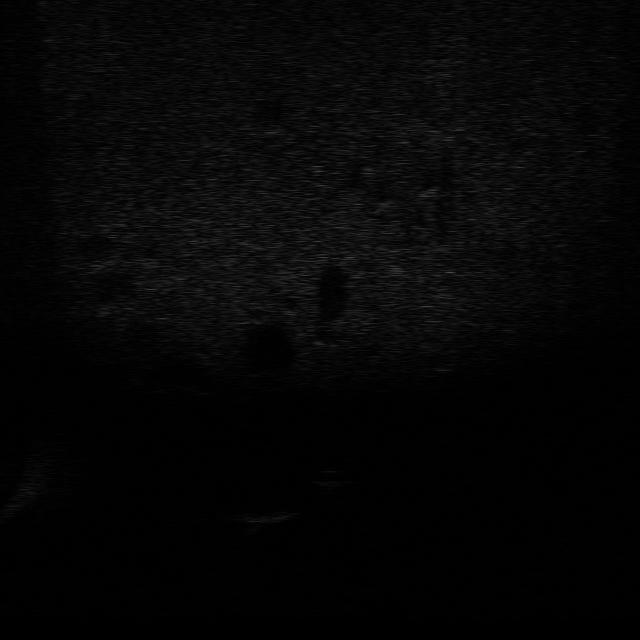ball: (306, 465, 352, 493)
square cage: (228, 503, 298, 538)
tyre: (418, 350, 477, 382)
